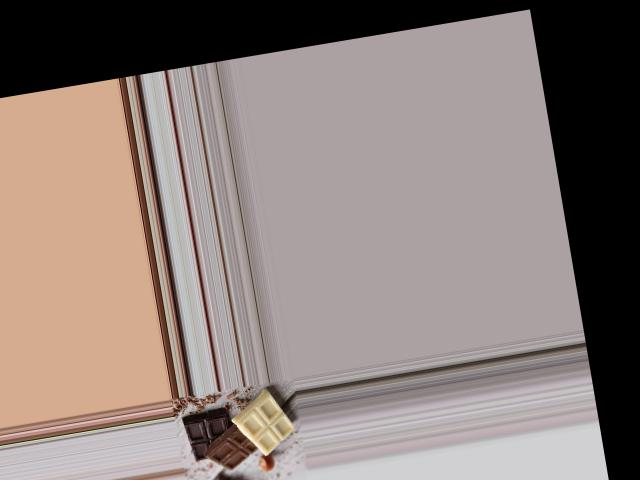chocolate: (175, 391, 299, 477)
